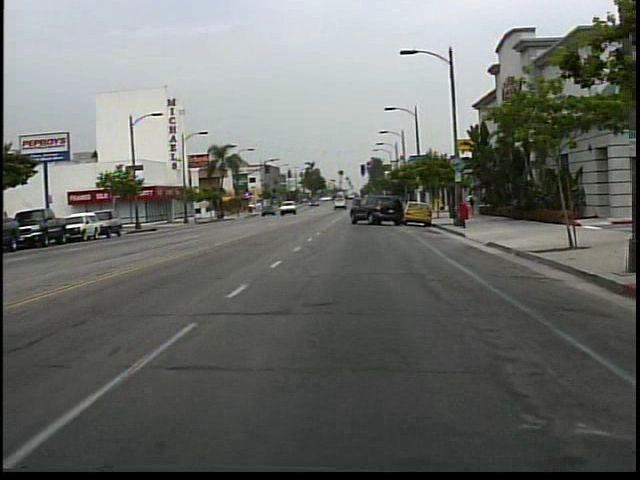person: (466, 187, 478, 214)
